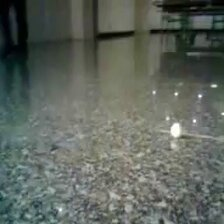w: (170, 121, 183, 138)
